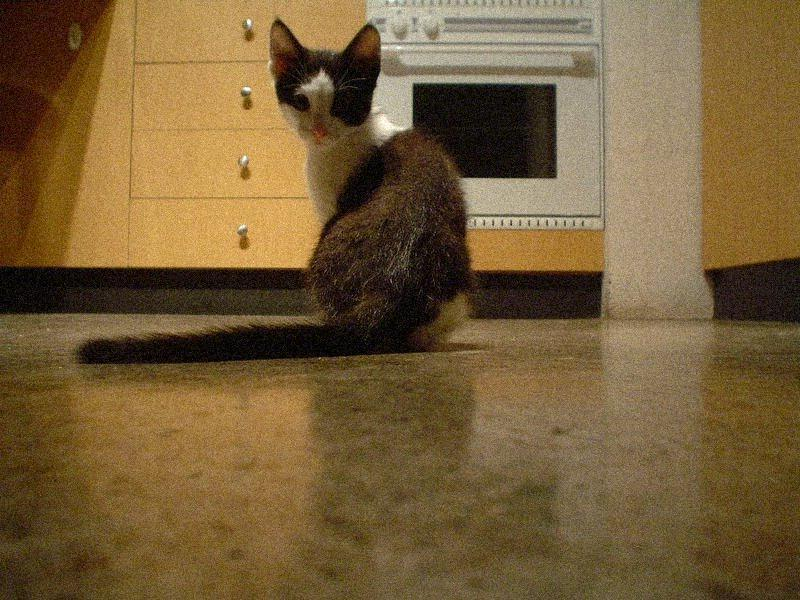Electrodomestico: (362, 7, 601, 233)
Otro Obstaculo: (49, 26, 496, 374)
